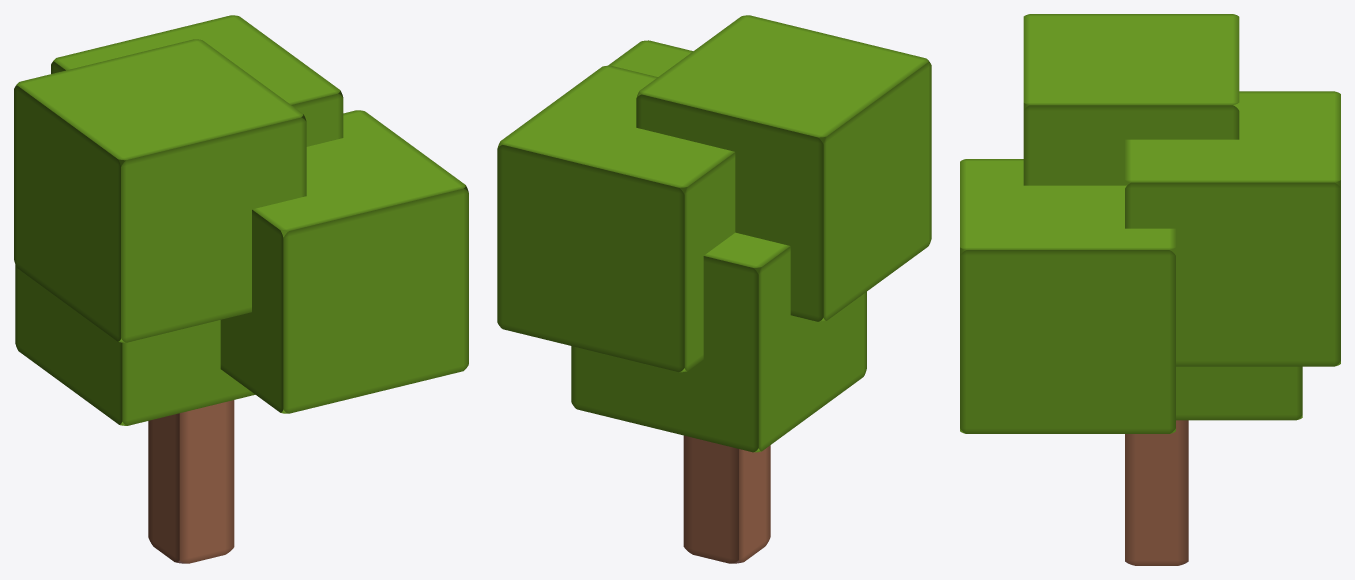
File: Tree.obj
3 views of the same model, side by side, from view 1: azimuth 30°, elevation 25°; view 2: azimuth 150°, elevation 25°; view 3: azimuth 270°, elevation 25° (orthographic).
Parts seen in each view (by area): view 1: mesh; view 2: mesh; view 3: mesh.
Boxes of the visible parts, x1,y1,x2,y2 form: mesh: (14,15,468,563); mesh: (497,15,931,563); mesh: (960,14,1340,565).
Size of the model in its own units: 1.81 by 2.56 by 1.88.
Materials: 1 (1 with a texture image).
